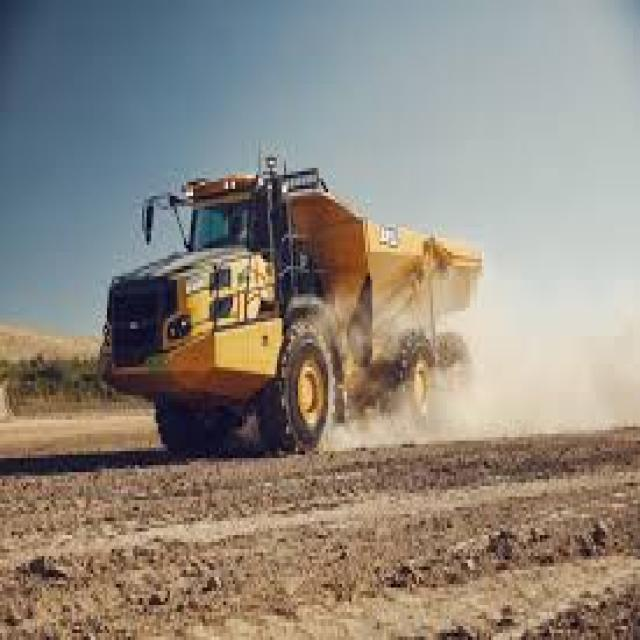dump_truck: (91, 136, 533, 482)
